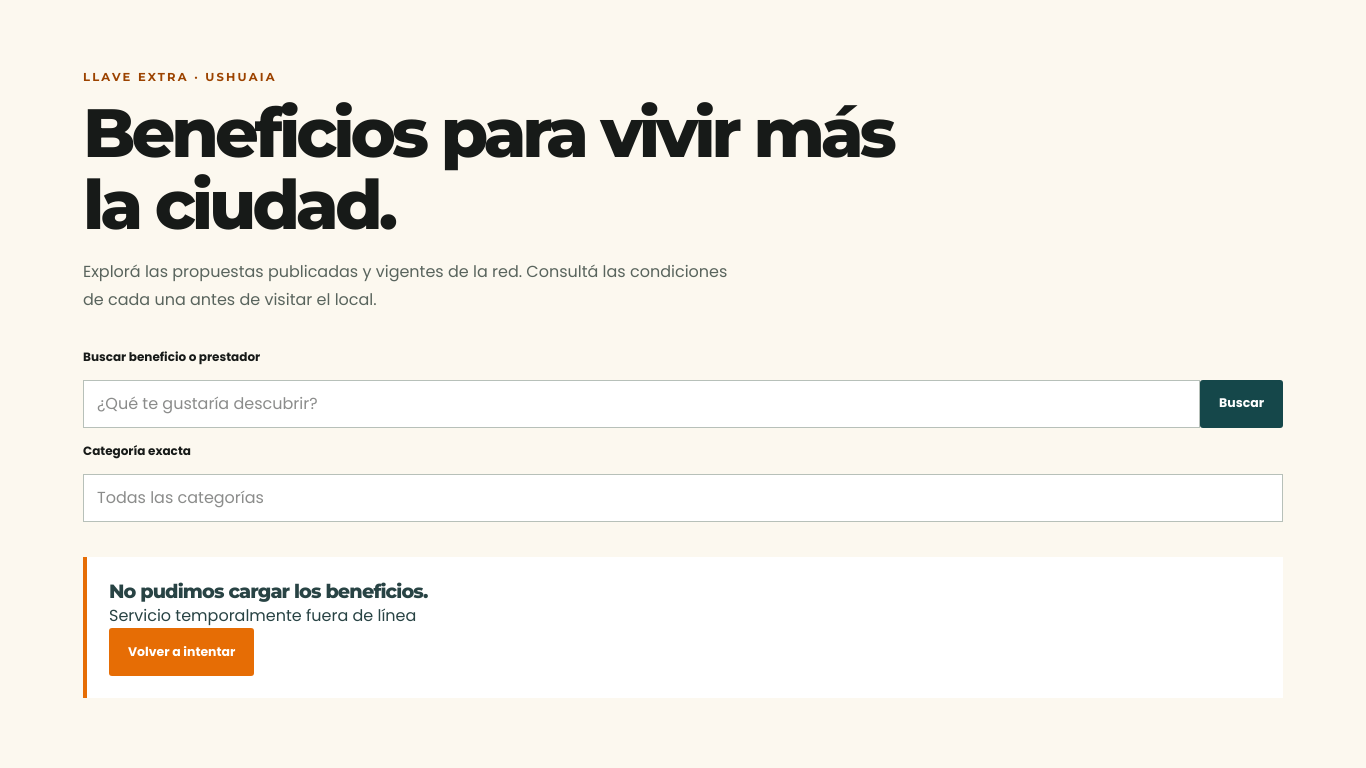
catálogo público › muestra error recuperable y vacío real sin ofertas inventadas
Expected: the message is shown, x1=83 y1=557 x2=1283 y2=698
Click the button "Volver a intentar": (182, 652) x1=109 y1=628 x2=254 y2=676
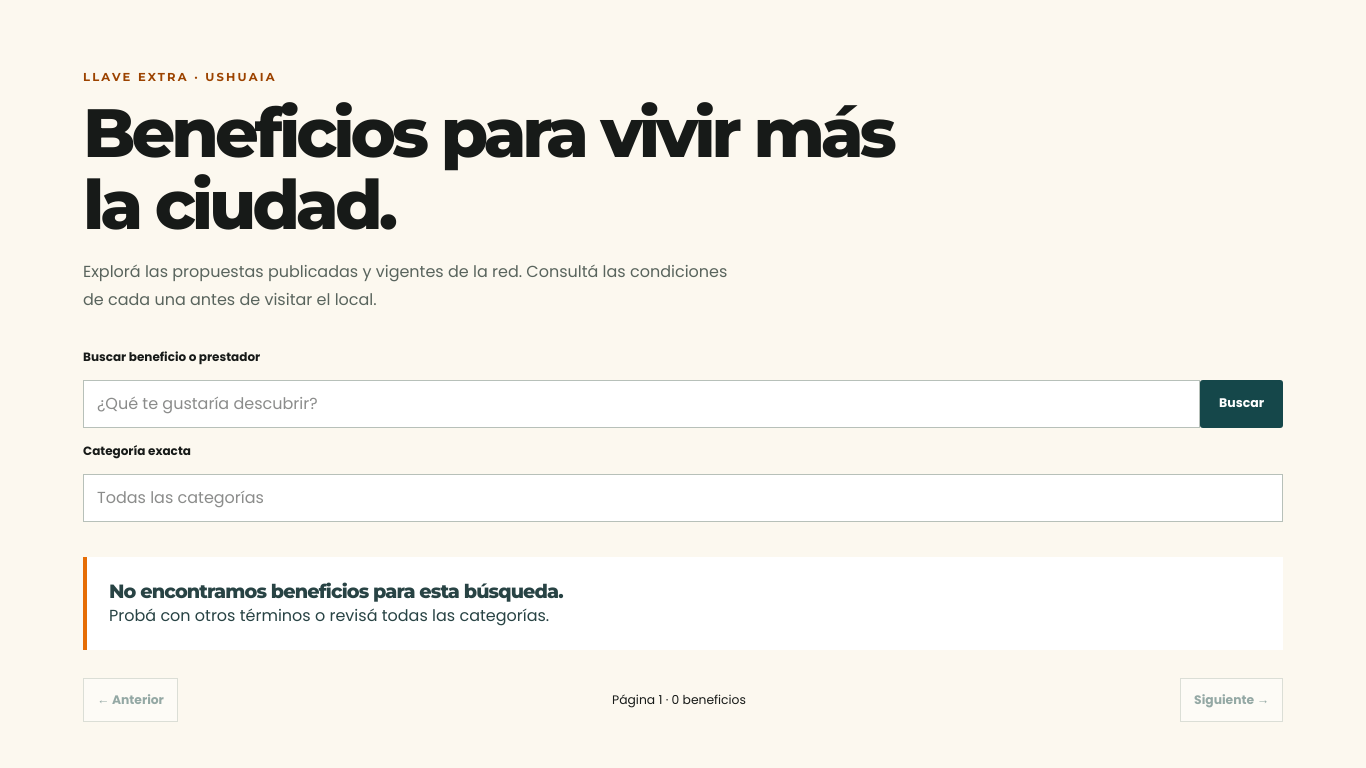
Expected: the heading "No encontramos beneficios para esta búsqueda." is shown, x1=109 y1=579 x2=563 y2=603
